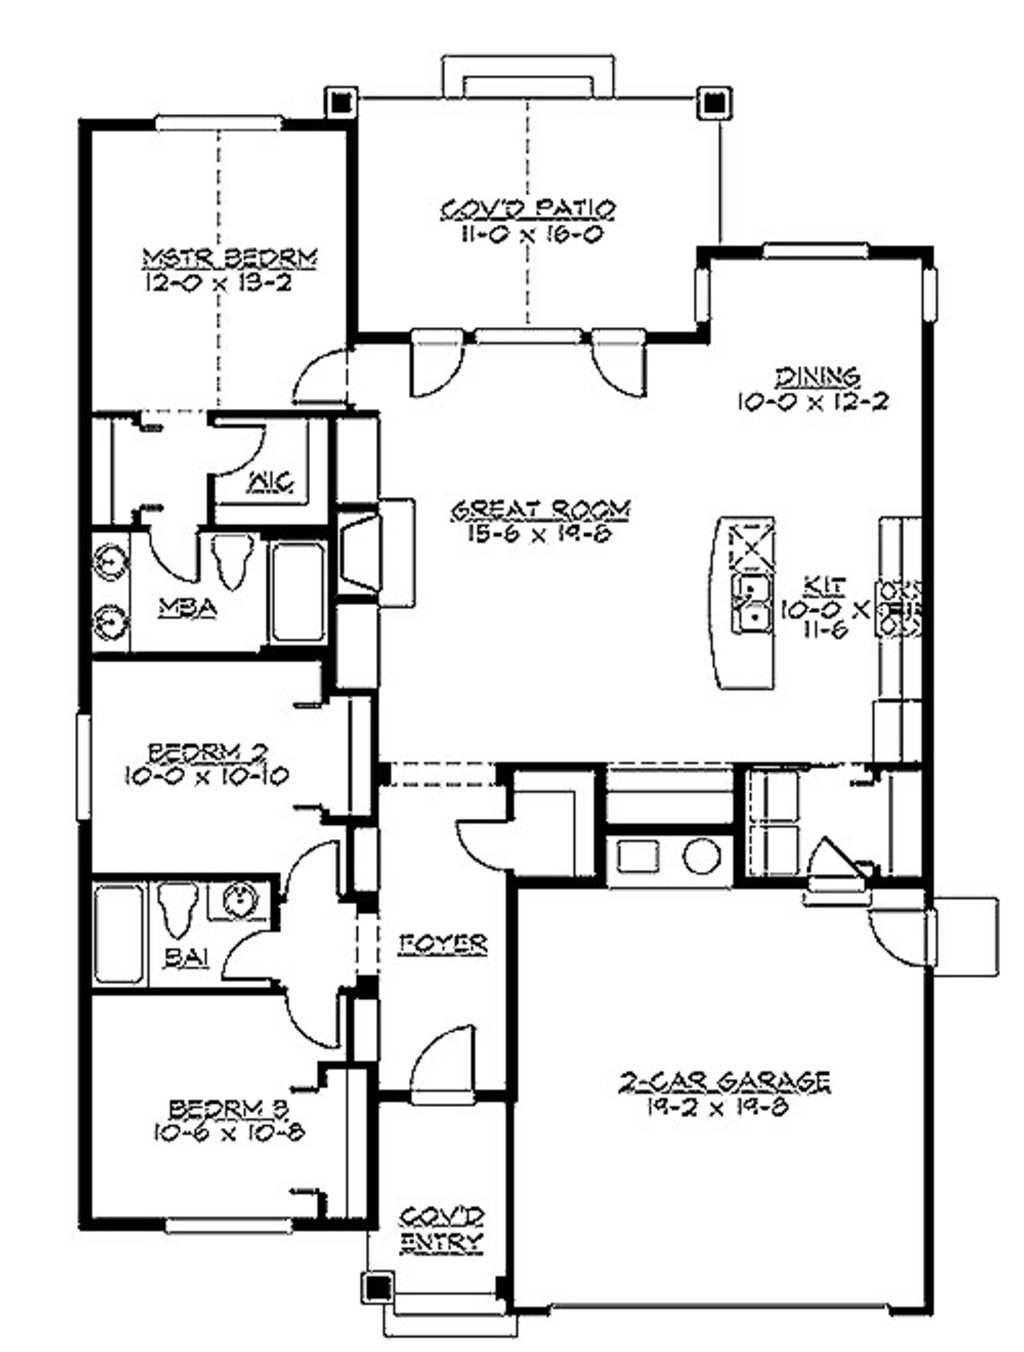door: (591, 332, 655, 403), (286, 838, 340, 909), (298, 351, 359, 409), (417, 1030, 477, 1088), (413, 335, 471, 394), (286, 990, 342, 1049), (215, 424, 276, 478), (873, 909, 934, 963), (144, 528, 205, 580), (463, 821, 517, 876), (223, 930, 280, 978), (817, 838, 857, 871)
small_sink: (207, 880, 273, 917)
tub: (267, 530, 328, 636), (93, 882, 142, 988)
twin_sink: (94, 532, 128, 646)
window: (161, 119, 286, 128), (763, 246, 871, 253), (928, 264, 938, 317), (701, 264, 709, 313), (169, 1224, 296, 1226)
